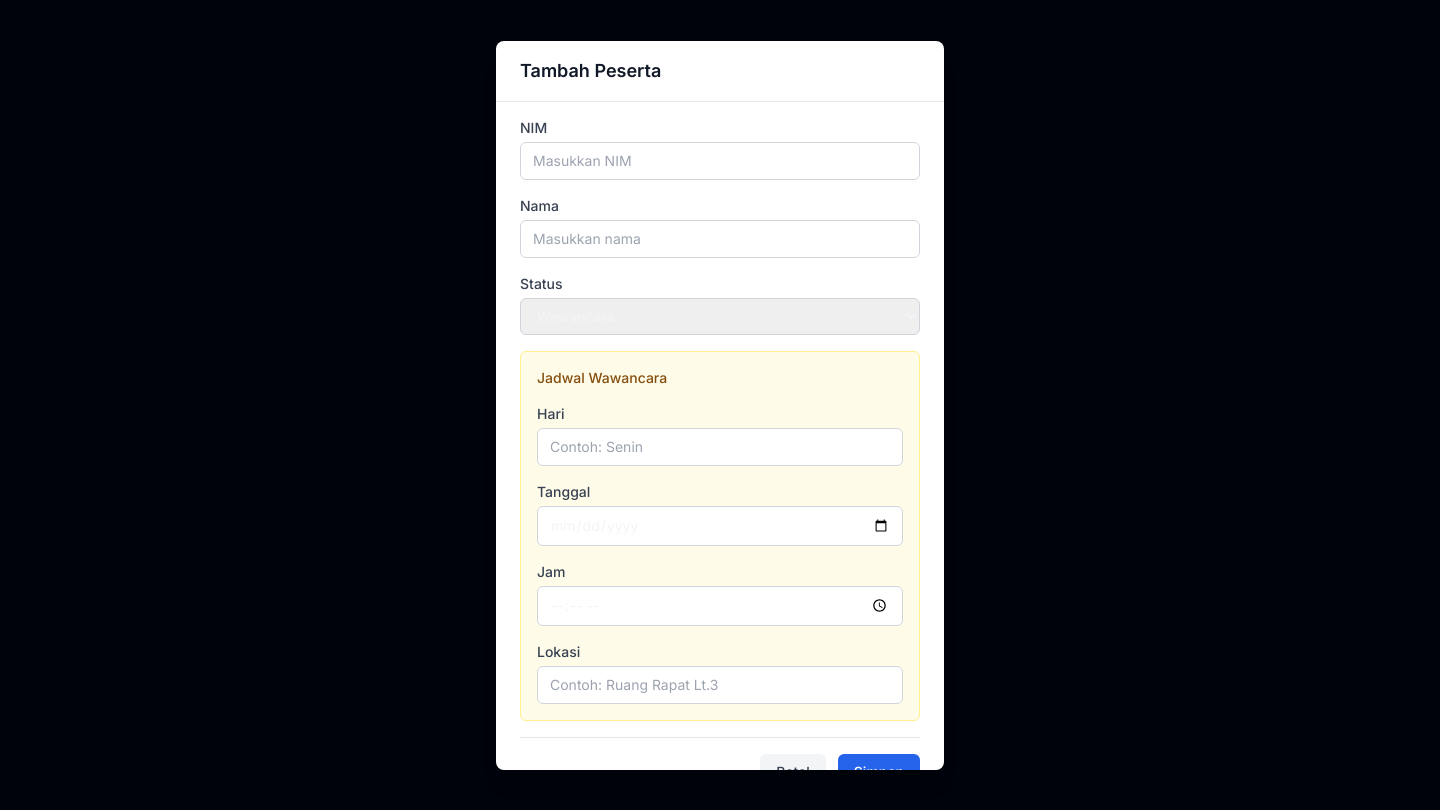
Scenario: AddPesertaModal › hides both jadwal and bidang fields when status is tidak_lulus
Select "Tidak Lulus" in the dropdown labelled "Status" at (720, 316), box [520,298,920,334]
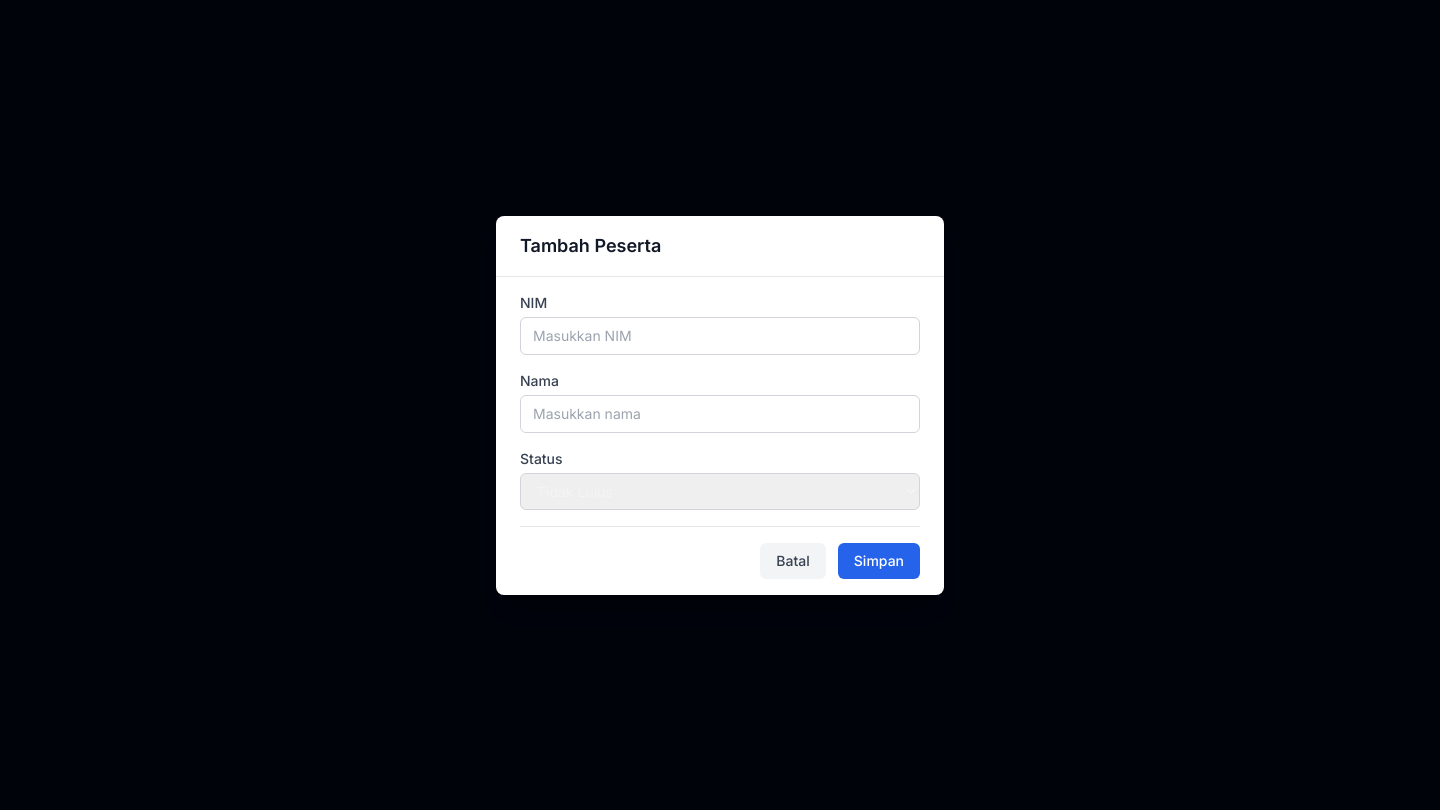
Now the label labelled "Hari" is gone
